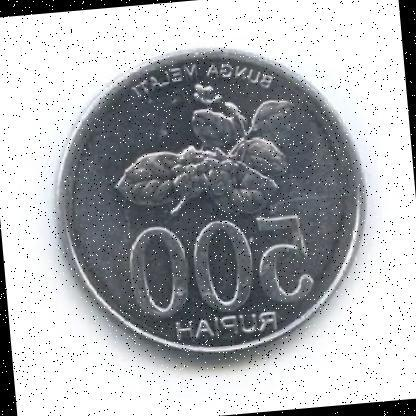coin_500_e2003: (58, 48, 367, 356)
